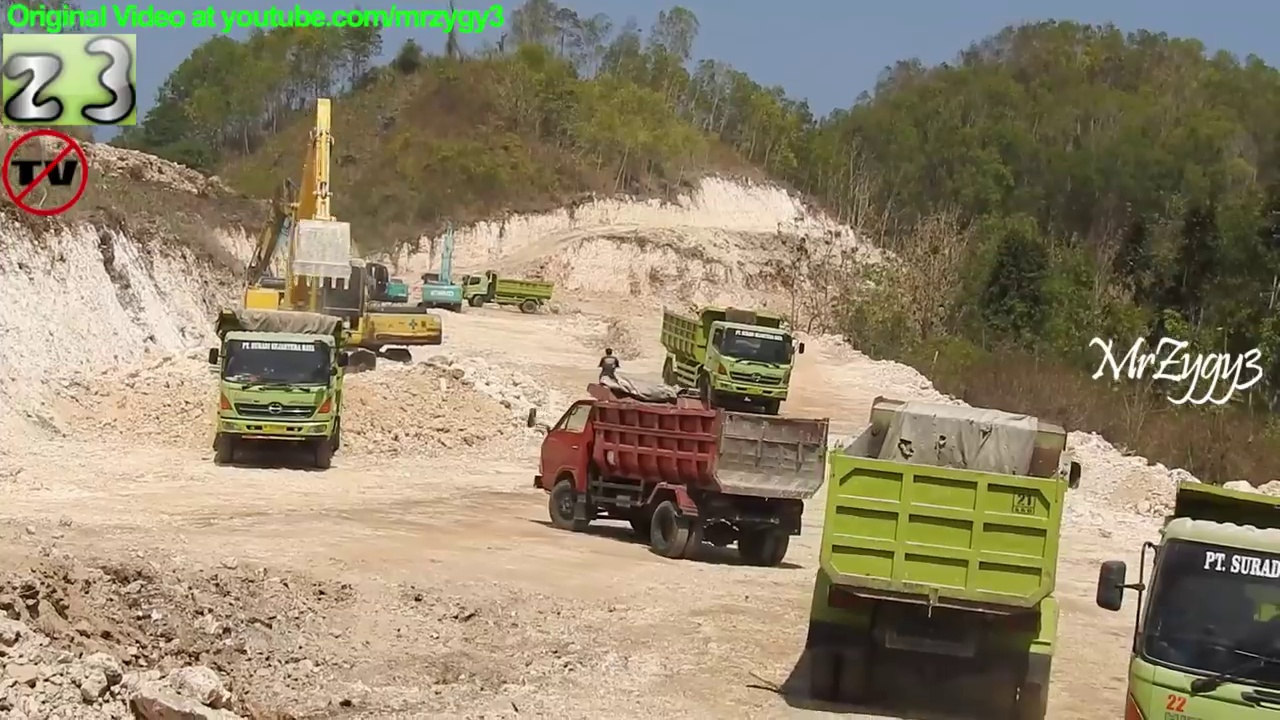excavator: (206, 95, 384, 379), (230, 178, 447, 372), (261, 207, 416, 330), (416, 221, 467, 317)
truck: (806, 396, 1085, 720), (526, 382, 829, 568), (1095, 472, 1278, 720), (209, 307, 353, 468), (660, 299, 807, 420), (460, 265, 557, 319)
